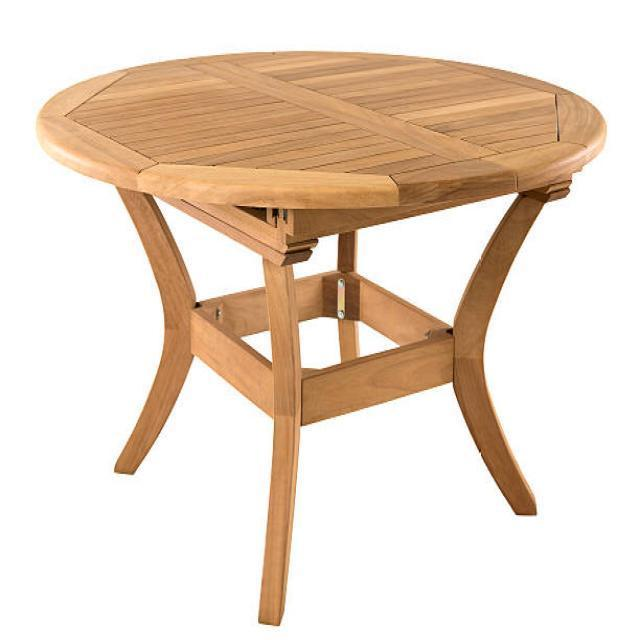table: (34, 48, 606, 625)
